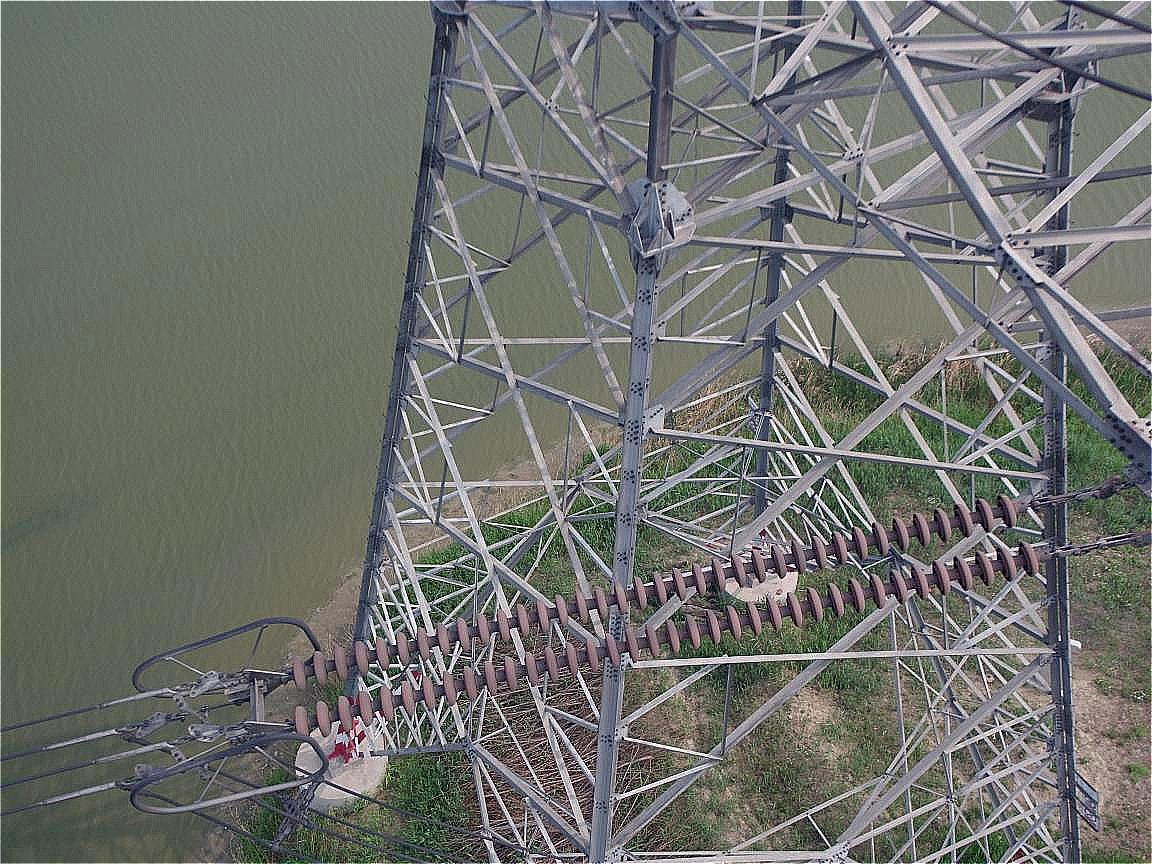insultor1: (270, 479, 1048, 737)
